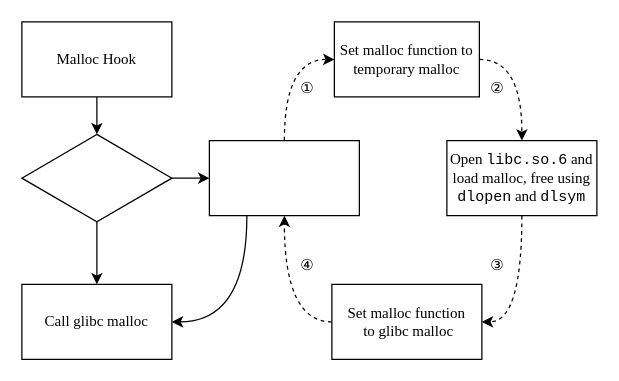
This 619x381 diagram has some shape labels left out. Each missing label, with the box of its shape:
First time call malloc ?: (21, 133, 172, 222)
Initialize glibc malloc: (208, 139, 359, 216)
